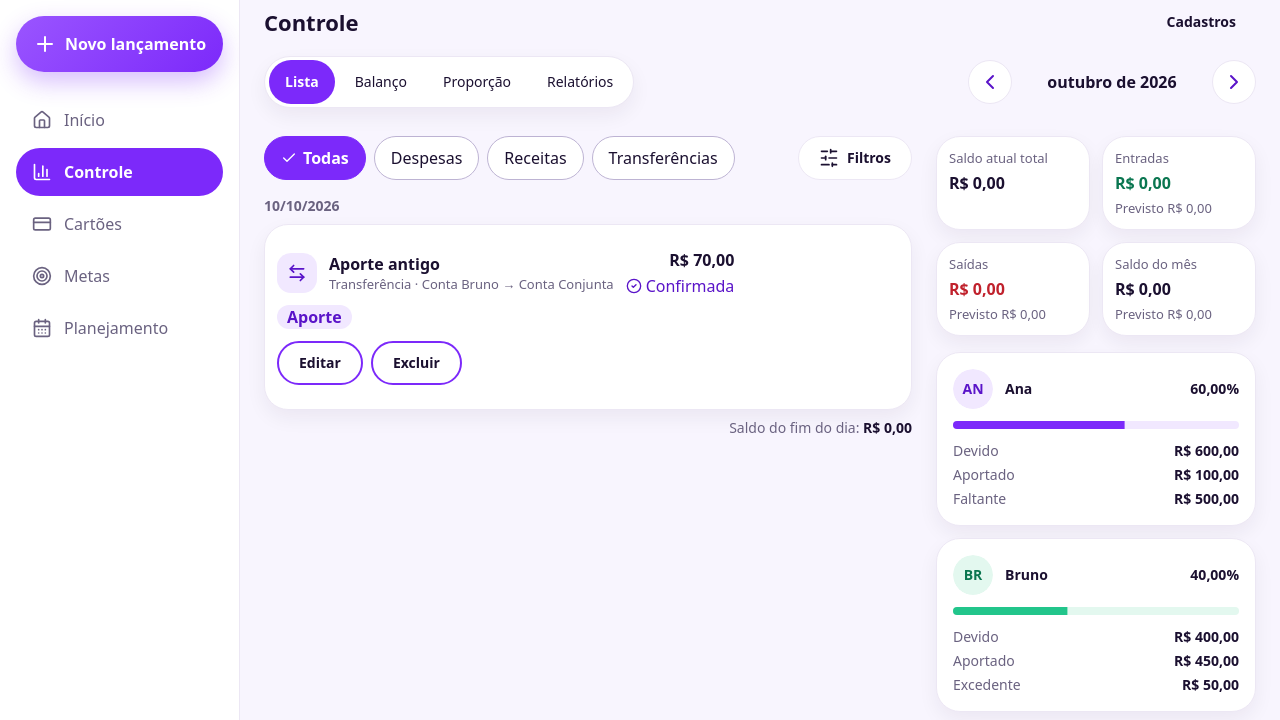
Test: sugestão de aporte na transferência (CA-3.19) › escolher origem individual e destino conjunta no formulário livre sugere o faltante
Expected: the heading "Controle" is shown, [264, 7, 358, 37]
Click the button "Novo lançamento".
click(120, 44)  # box [16, 16, 223, 72]
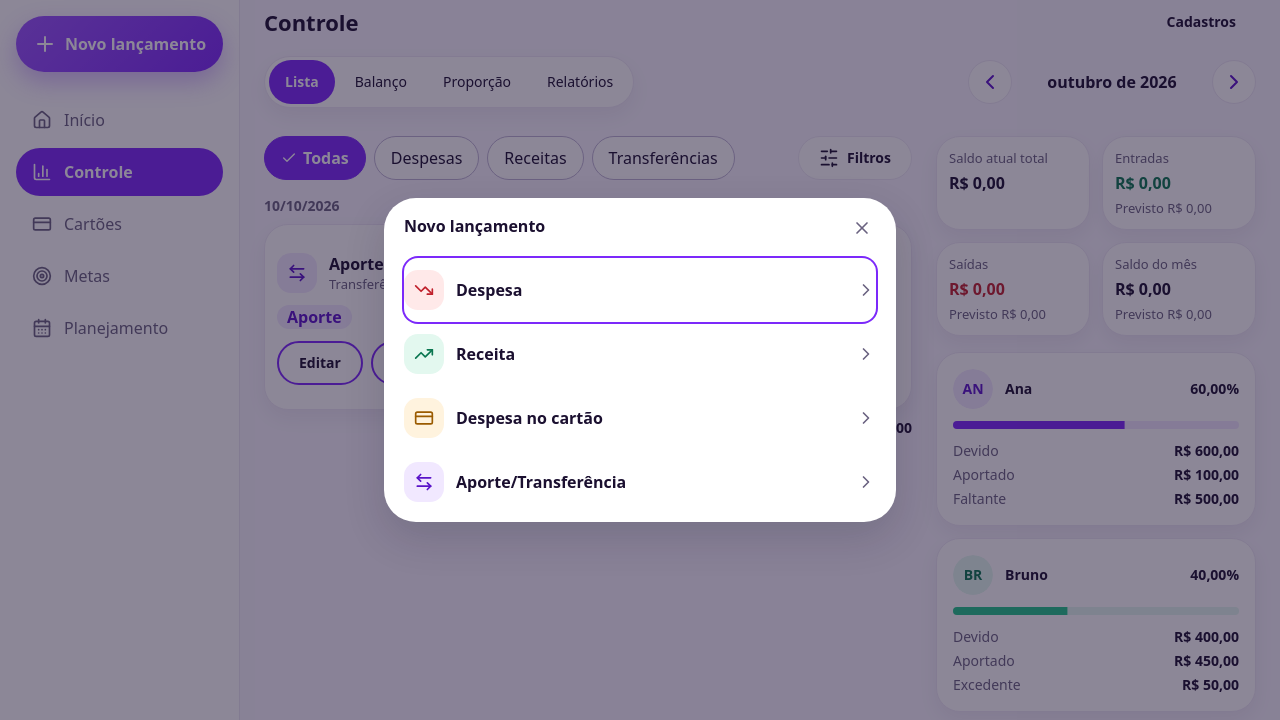
Click the button "Aporte/Transferência".
click(424, 482)  # box [404, 450, 876, 514]
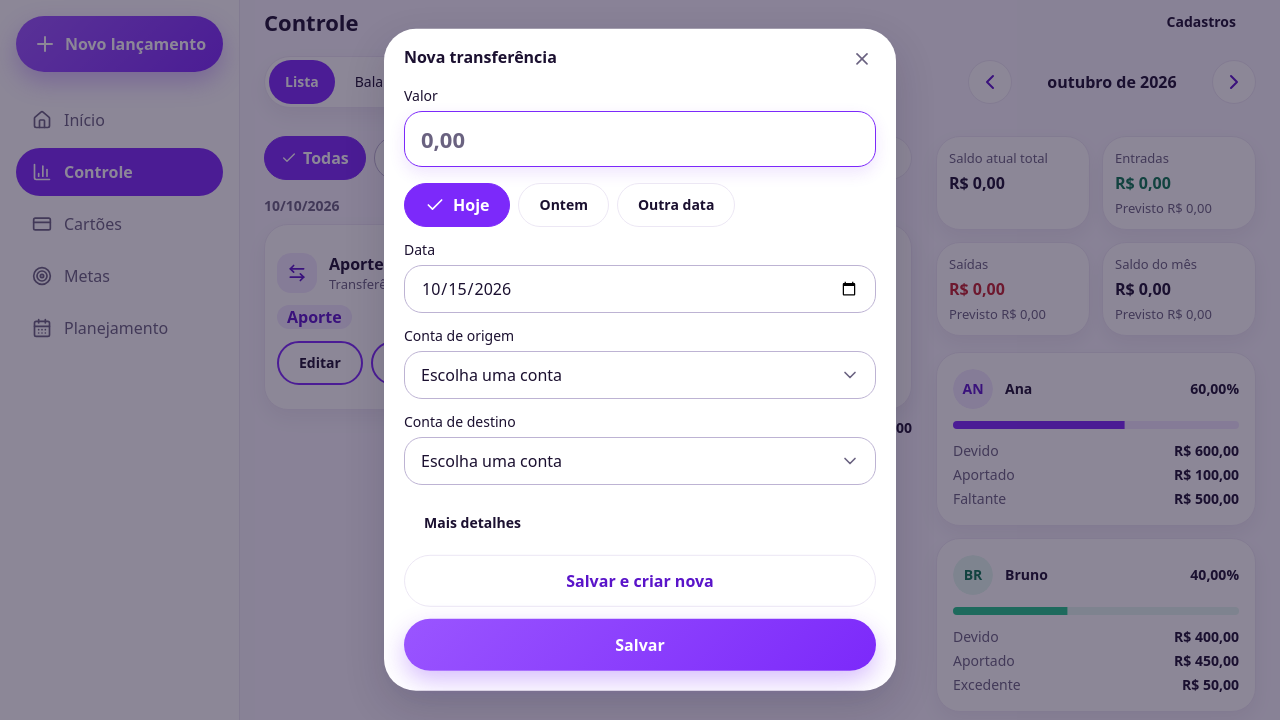
Select "Conta Ana" in the dropdown labelled "Conta de origem" at coordinates (640, 375), box [404, 351, 876, 399]
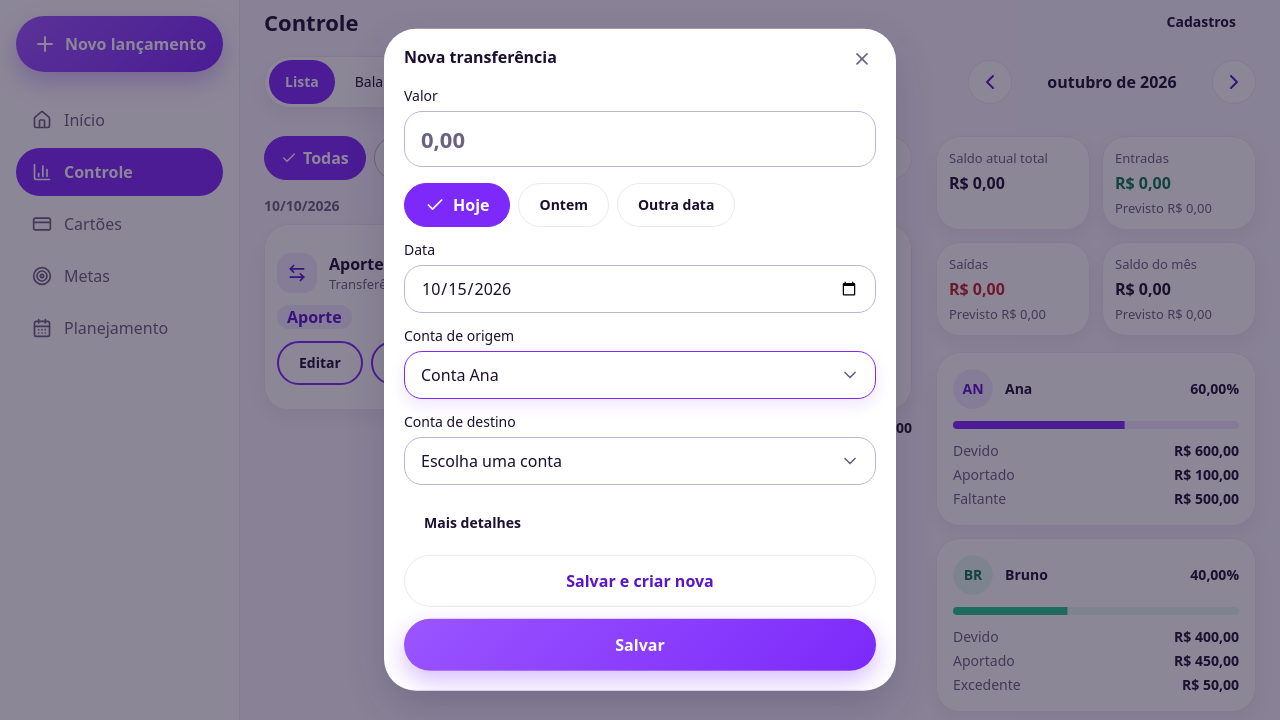
Select "Conta Conjunta" in the dropdown labelled "Conta de destino" at coordinates (640, 461), box [404, 437, 876, 485]
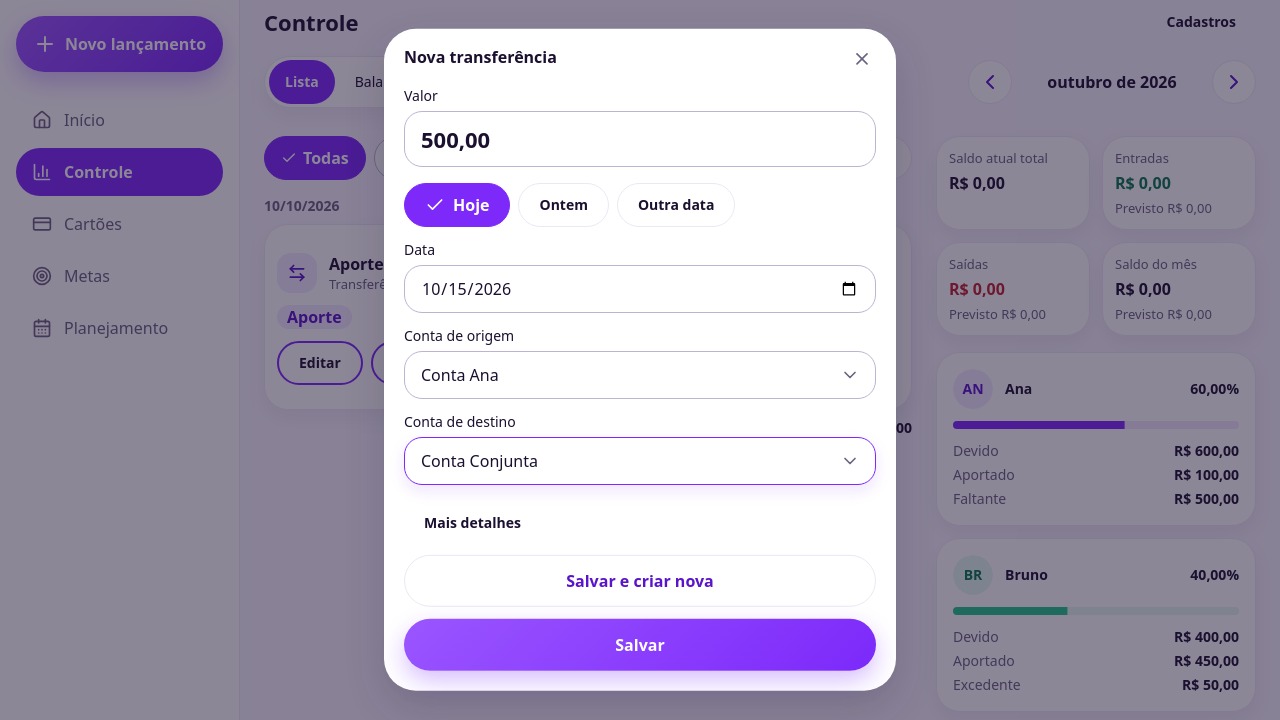
Result: the field labelled "Valor" holds "500,00" at [404, 111, 876, 167]
